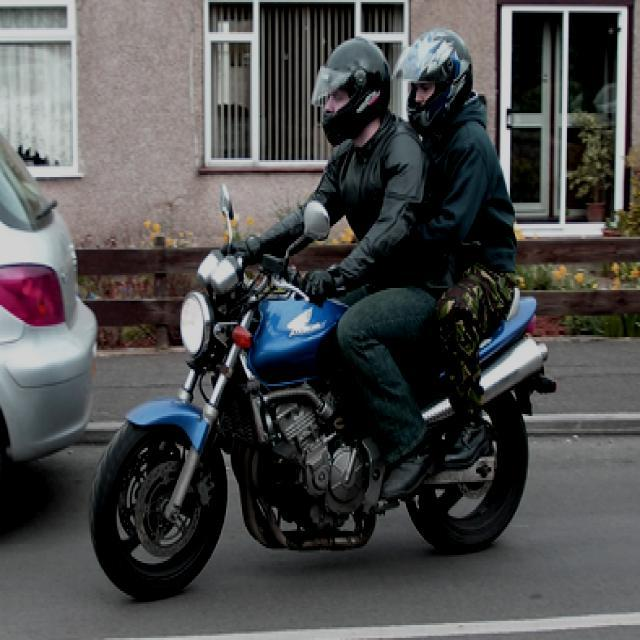Helmet: (393, 19, 471, 132), (310, 39, 387, 148)
